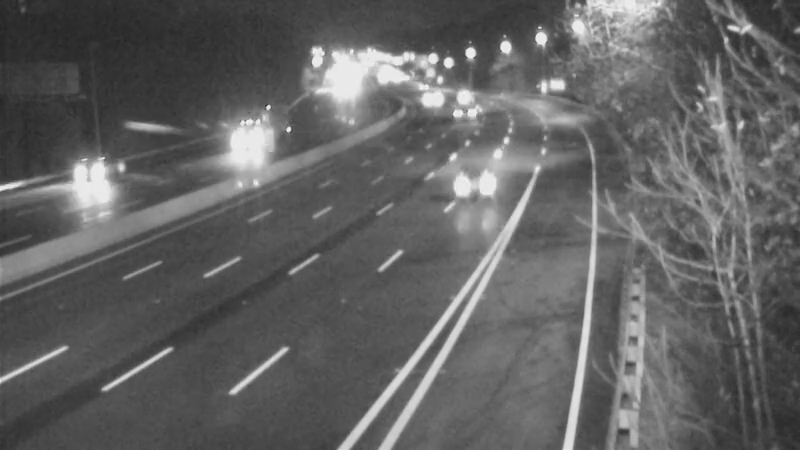vehicle: (444, 131, 524, 211), (44, 130, 124, 210), (401, 70, 451, 120), (437, 77, 487, 127), (232, 124, 282, 174)
